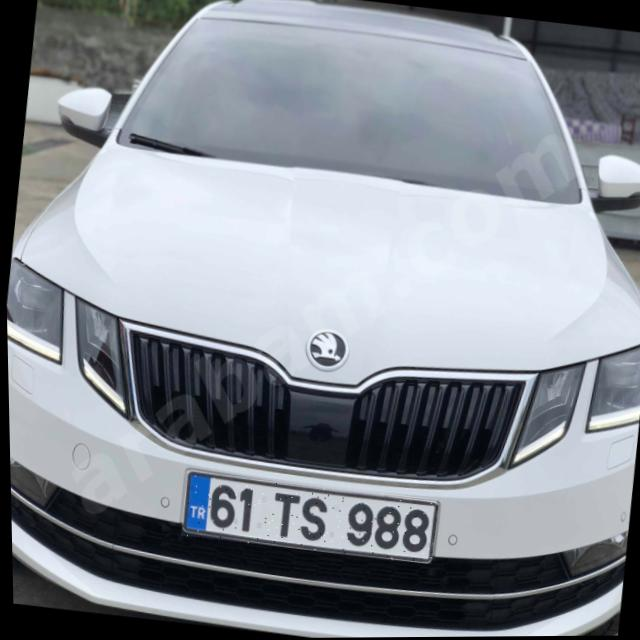license_plate: (177, 469, 435, 566)
